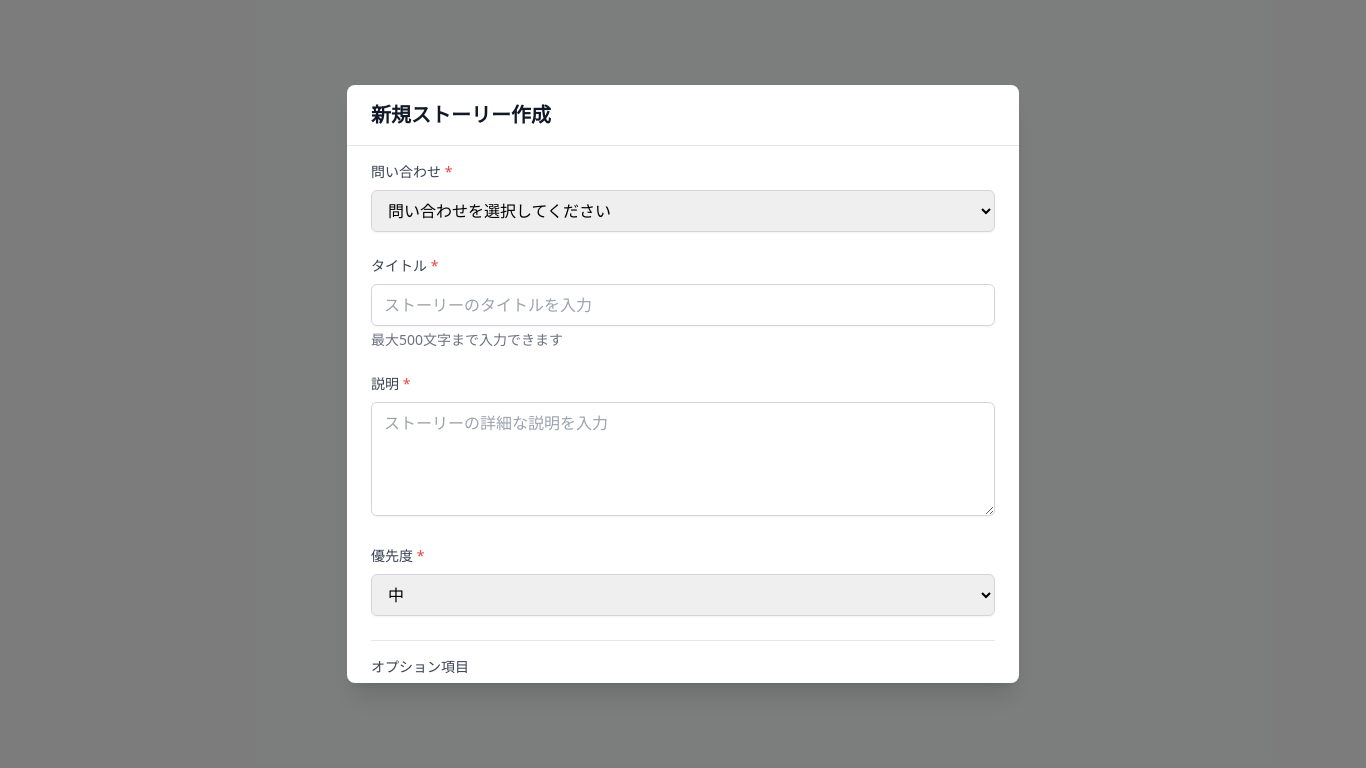
Test case: StoryForm › エラーハンドリング › サーバーエラー時にエラーバナーが表示されること
// 問い合わせを選択
Select "ログイン機能を追加してほしい" in the dropdown labelled "問い合わせ *". click: x=683, y=211
box: [371,190,995,232]
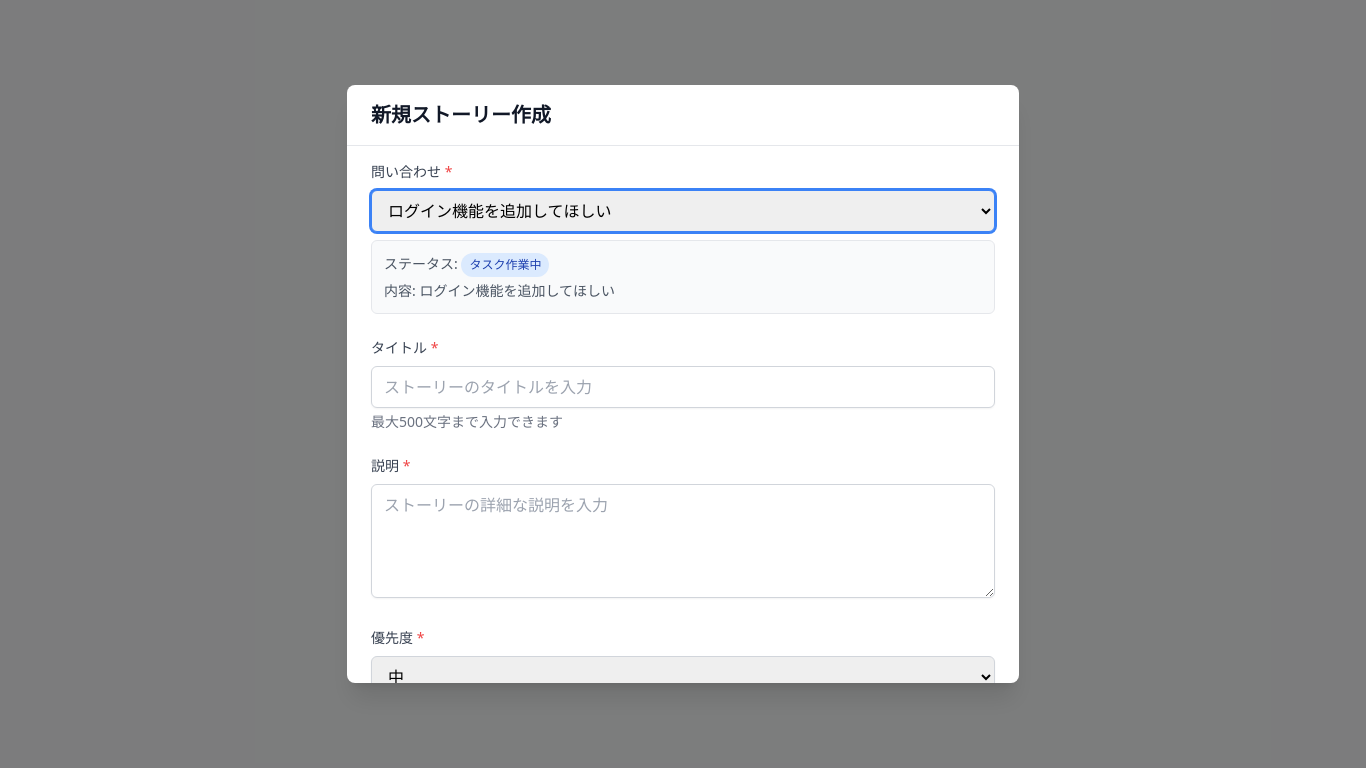
Type "テストストーリー" into the field labelled "タイトル *". click: x=683, y=387
box: [371,366,995,408]
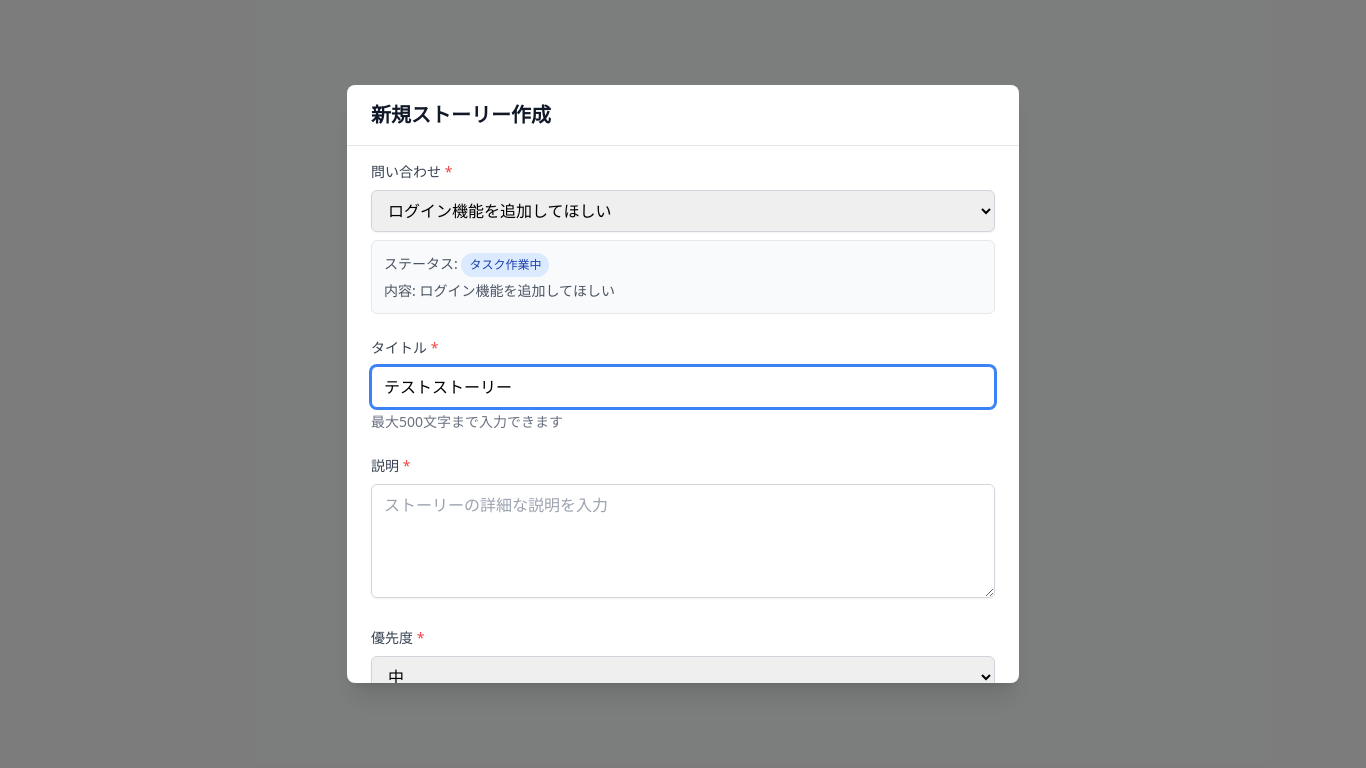
Type "テストの説明" into the text box labelled "説明 *". click: x=683, y=541
box: [371,484,995,598]
(page scrolled)
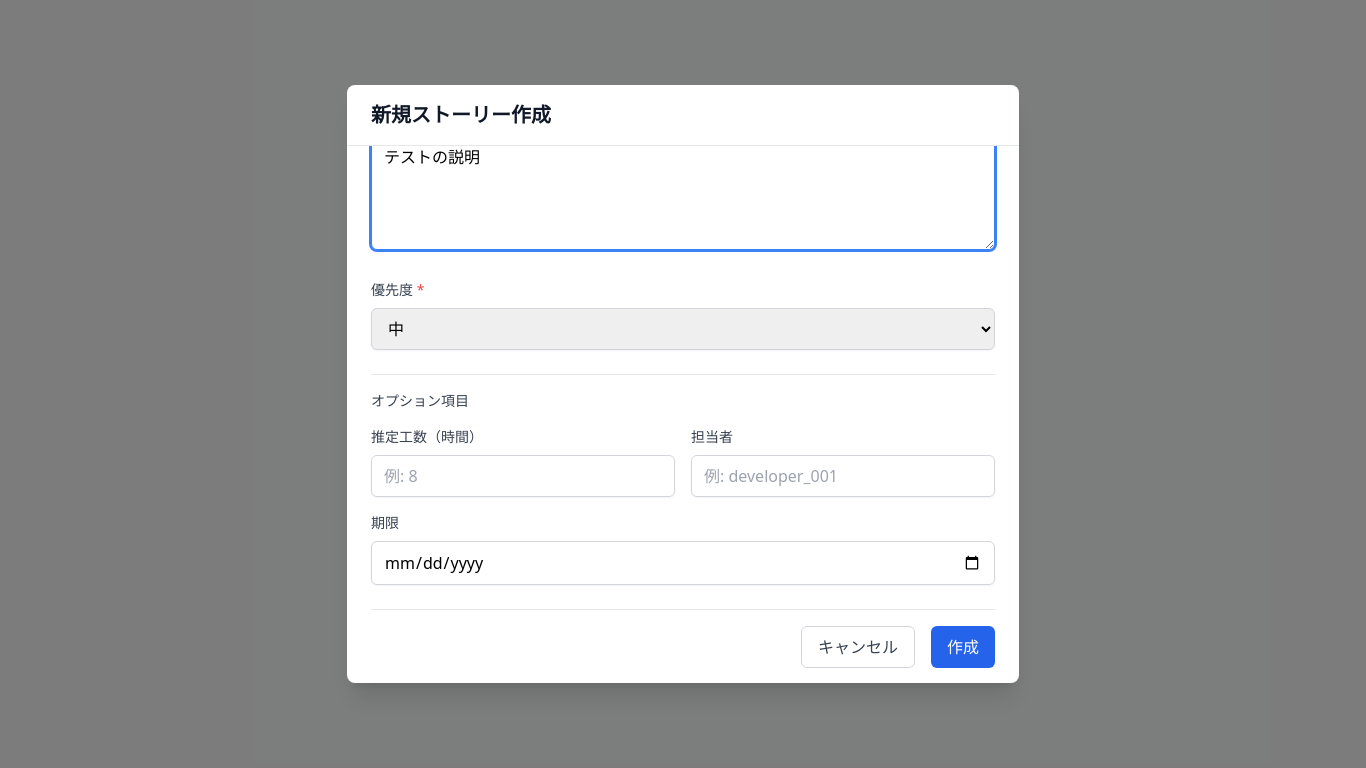
// 送信ボタンをクリック
Click the button "作成". click: x=963, y=647
box: [931,626,995,668]
(page scrolled)
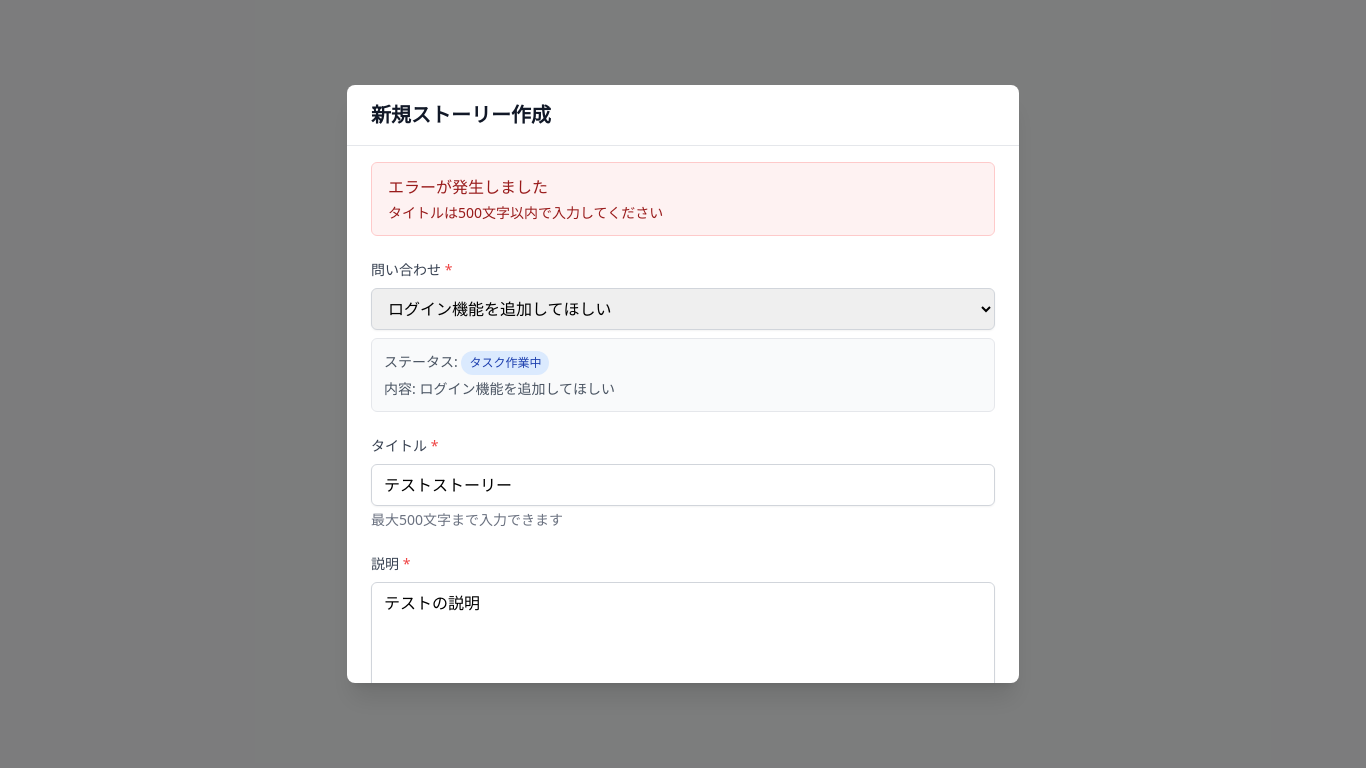
Expected: the text "タイトルは500文字以内で入力してください" is shown, [388,203,663,222]
